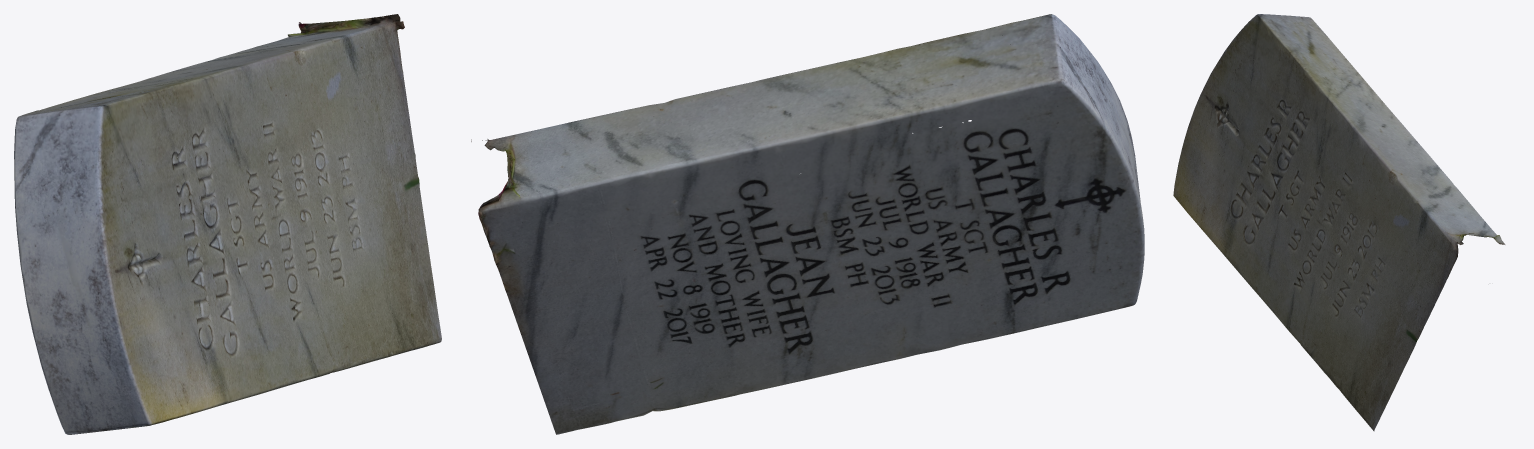
File: 3DModel_LowPoly.gltf
3 renders of one model, left to right at view 1: azimuth 30°, elevation 25°; view 2: azimuth 150°, elevation 25°; view 3: azimuth 270°, elevation 25°, orthographic. The views are drawn at different scales.
Visible parts, largest first — view 1: 3DModel_LowPoly; view 2: 3DModel_LowPoly; view 3: 3DModel_LowPoly.
Boxes of the visible parts, left/top/right/bottom form: 3DModel_LowPoly: left=14, top=14, right=441, bottom=434; 3DModel_LowPoly: left=471, top=14, right=1144, bottom=434; 3DModel_LowPoly: left=1173, top=14, right=1505, bottom=431.
Size of the model in its own units: 3.71 by 2.88 by 3.07.
1 material, 1 textured.
